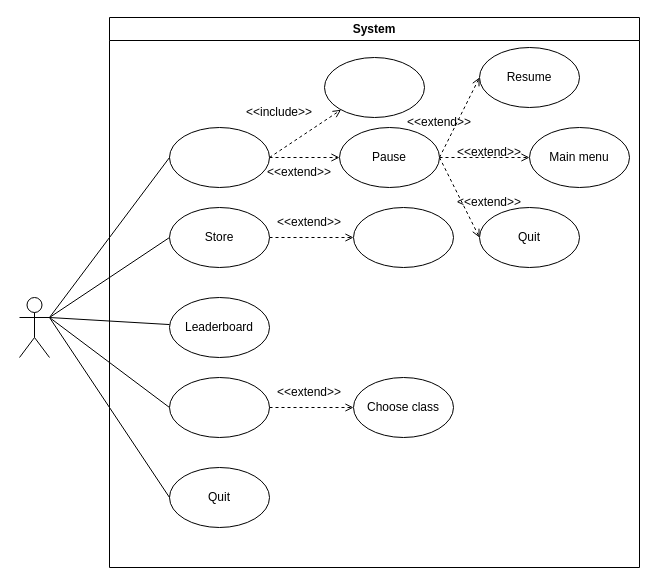
This 657x585 diagram has some shape labels left out. Here are the shapes that lost their labels. From the top down, the box of each, then its label:
(324, 56, 424, 118): Choose difficulty
(168, 126, 270, 188): Play
(352, 206, 454, 268): Upgrade stats
(18, 296, 50, 358): Player
(168, 376, 270, 438): Class
